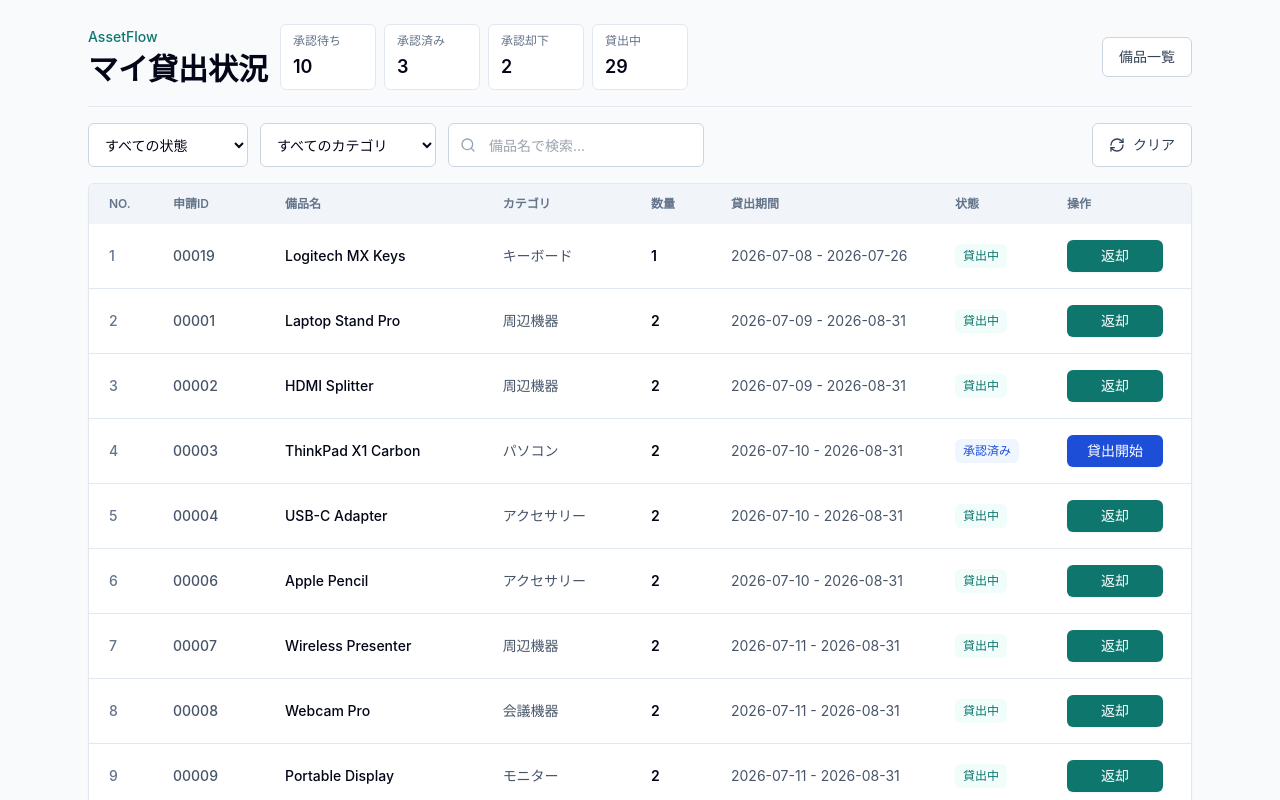
Test case: MyLoanRequestPage › 034: 該当なしのキーワード検索では空状態メッセージを表示する
This screenshot has width=1280, height=800.
Type "あ" into the search field with placeholder "備品名で検索..." at (576, 145), box [448,123,704,167]
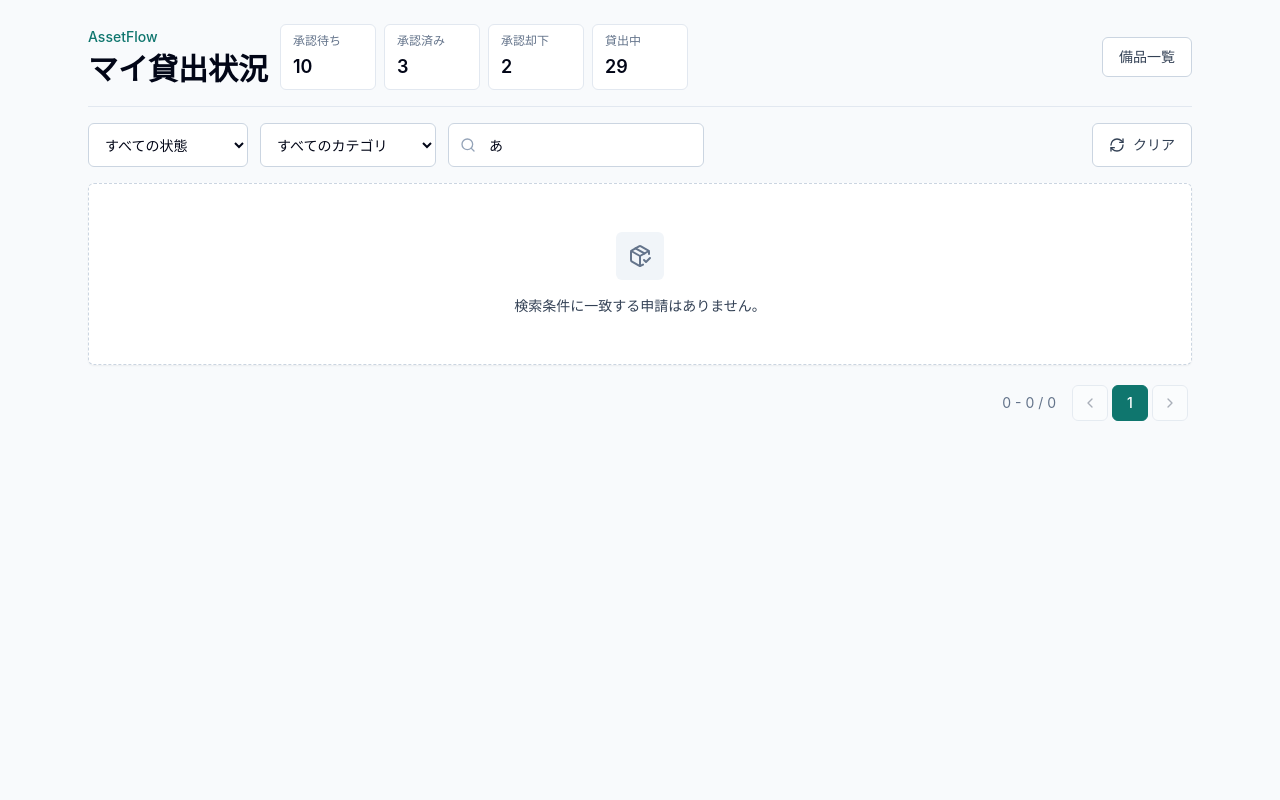
expect the text "検索条件に一致する申請はありません。" is shown: met, box [514,297,766,314]
expect the text "0 - 0 / 0" is shown: met, box [1002,393,1056,413]
expect the button named "次のページ" is disabled: met, box [1152,385,1188,421]
